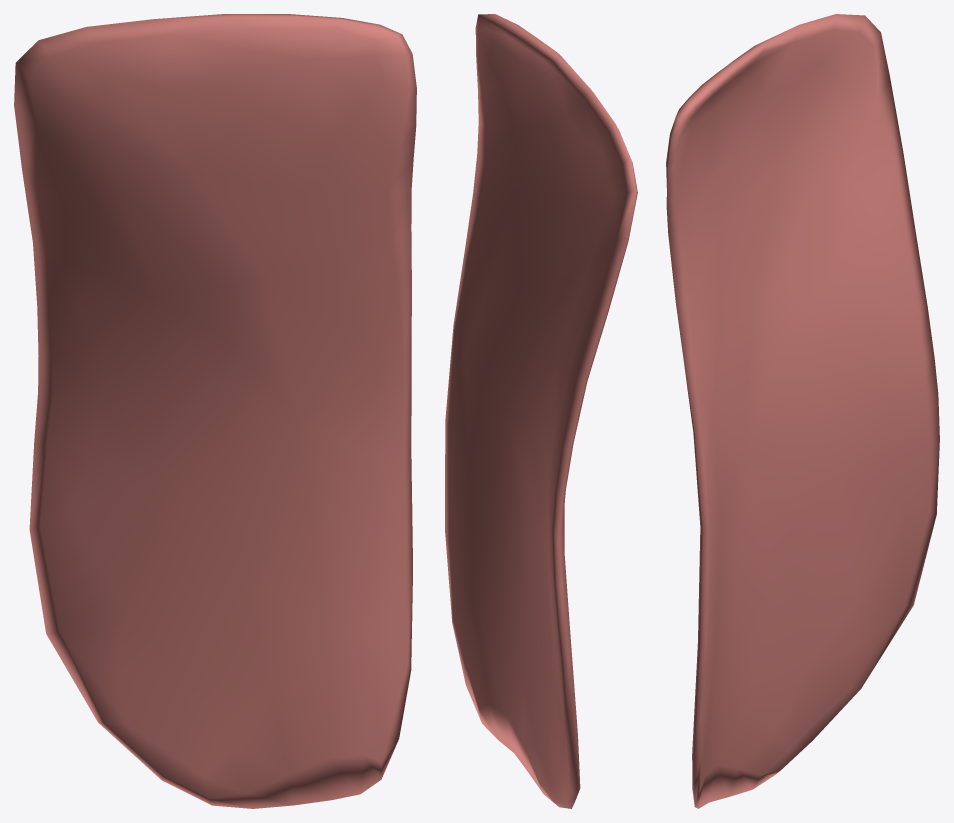
3 views of the same model, side by side, from view 1: azimuth 30°, elevation 25°; view 2: azimuth 150°, elevation 25°; view 3: azimuth 270°, elevation 25° (orthographic). The views are drawn at different scales.
Parts seen in each view (by area): view 1: ZA_e20054c9b17ee5fe; view 2: ZA_e20054c9b17ee5fe; view 3: ZA_e20054c9b17ee5fe.
Part boxes in pixels (box(x1,y1,x2,y2)): ZA_e20054c9b17ee5fe: box(14, 14, 416, 808); ZA_e20054c9b17ee5fe: box(445, 14, 637, 808); ZA_e20054c9b17ee5fe: box(666, 14, 939, 808).
Bounding box in the file's own units: 0.00947 × 0.0239 × 0.00808.
